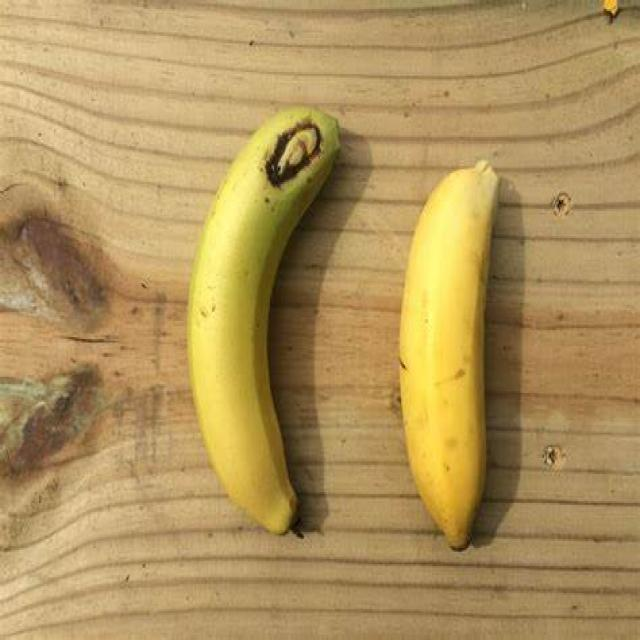Banana: (170, 97, 351, 535), (395, 157, 503, 537)
